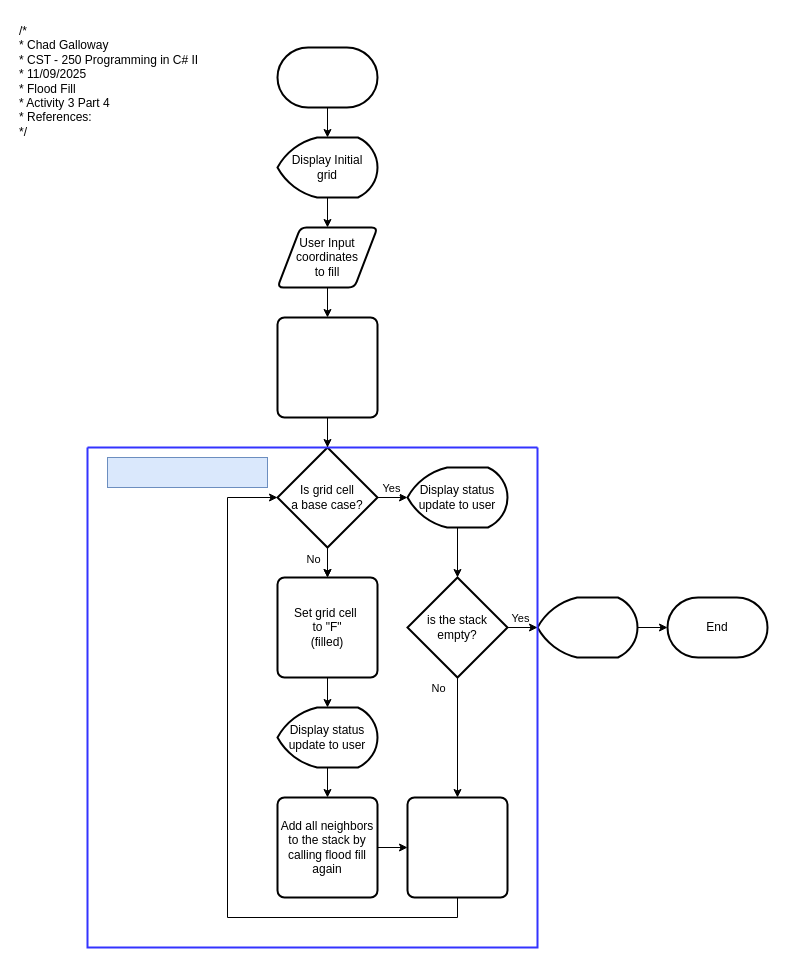
This 785x965 diagram has some shape labels left out. The centre of each missing label's shape, as x and y in pixels:
"Call flood fill with users input" goes at (x=327, y=367).
"Display the final board" goes at (x=587, y=627).
"Pop the stack" goes at (x=457, y=847).
"Recursion Algorithm" goes at (x=187, y=472).
"Start" goes at (x=327, y=77).
